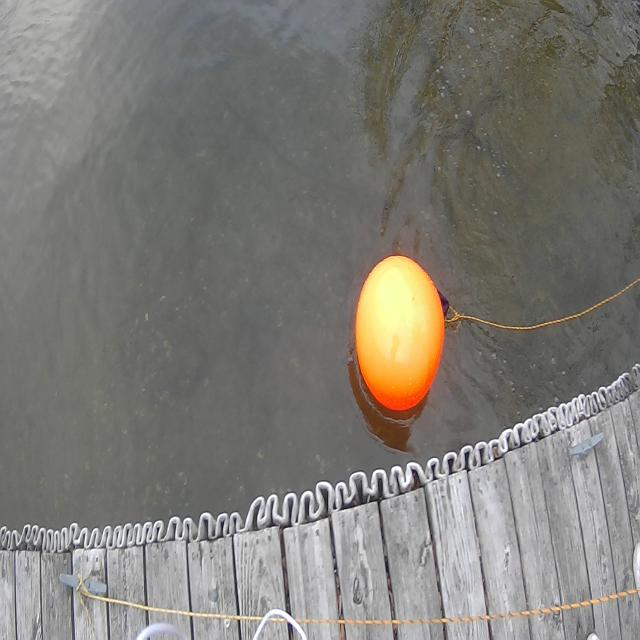Buoy: (353, 243, 457, 420)
